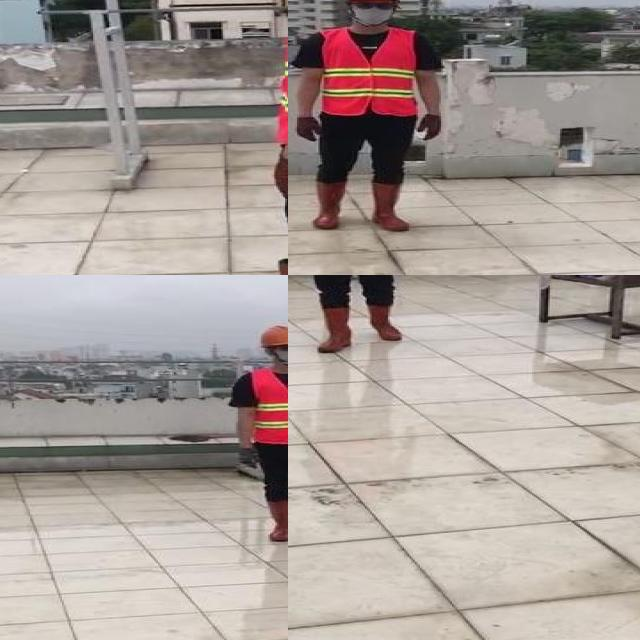boots: (365, 181, 409, 231), (311, 181, 345, 229), (319, 305, 354, 351), (367, 302, 402, 341), (264, 500, 288, 541)
face_mask: (349, 0, 395, 24), (270, 339, 288, 364)
glasses: (349, 0, 399, 11), (270, 341, 288, 353)
hand_glove: (292, 116, 326, 143), (272, 157, 288, 201), (416, 115, 443, 140), (238, 447, 263, 469)
head_helmet: (256, 324, 288, 349)
person: (288, 0, 458, 236), (222, 323, 288, 552), (288, 275, 428, 355)
vest: (320, 27, 420, 116), (252, 367, 288, 444)
